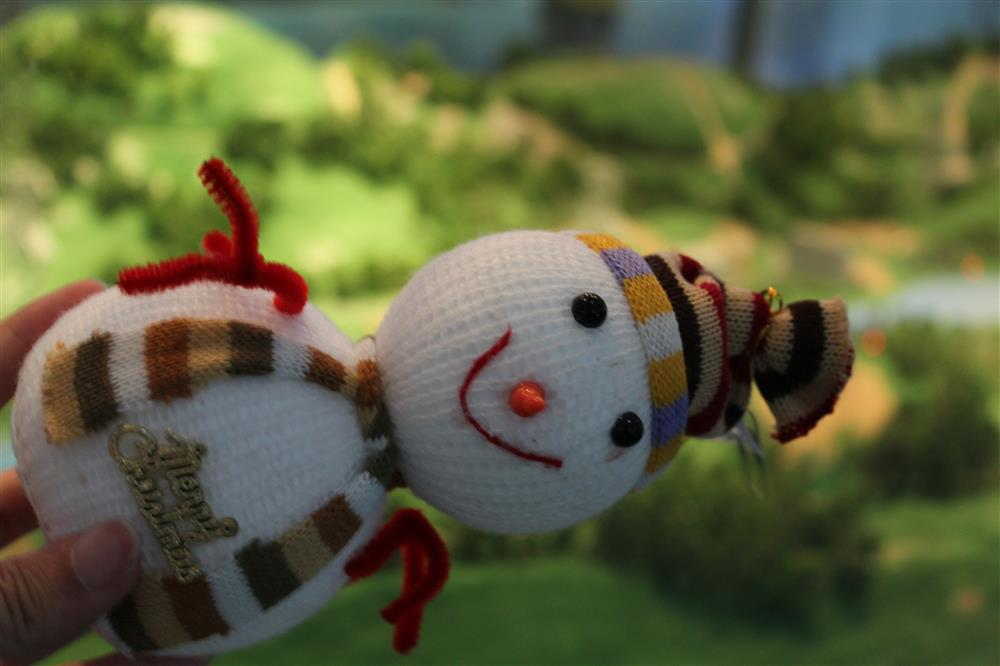toy_snowman: (10, 154, 853, 661)
